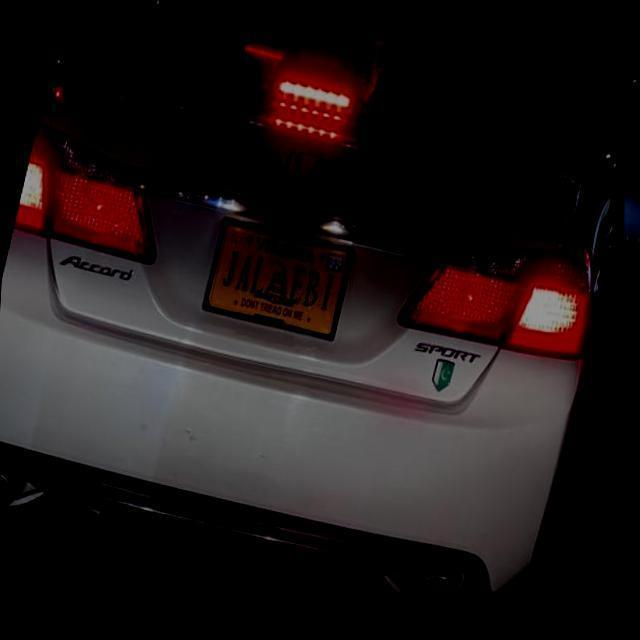license-plate: (209, 197, 355, 359)
